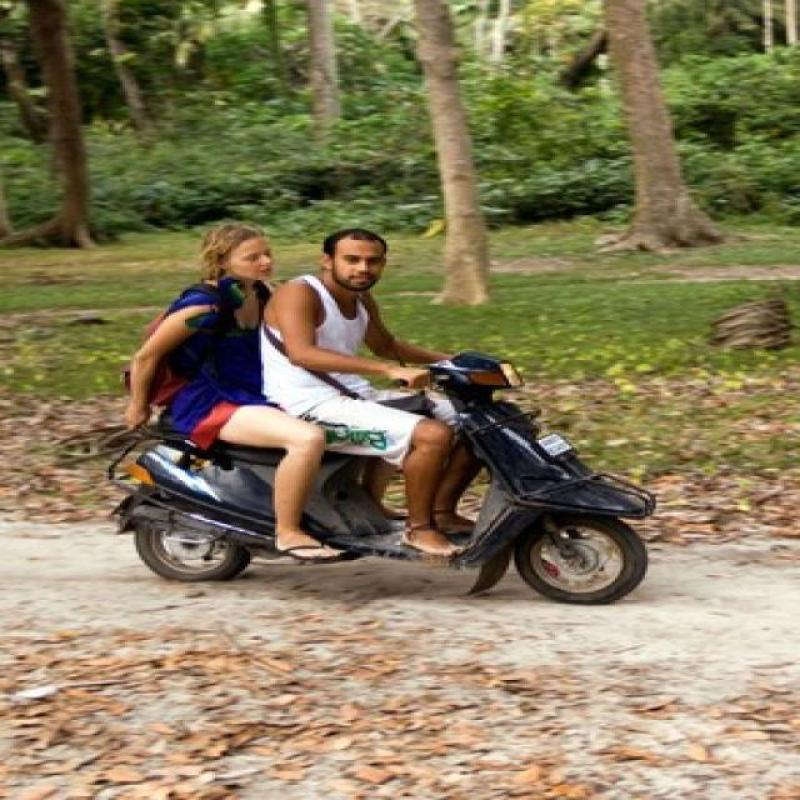nohelmet: (202, 224, 302, 308), (308, 234, 412, 304)
